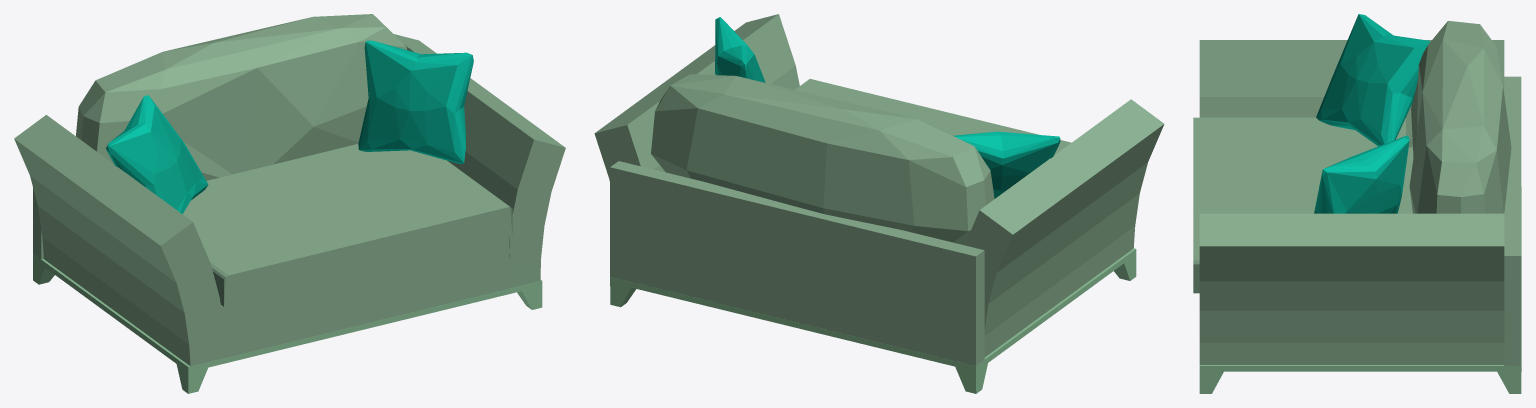
The model's file is Accesories_Sofa_One_Seater.glb.
3 renders of one model, left to right at view 1: azimuth 30°, elevation 25°; view 2: azimuth 150°, elevation 25°; view 3: azimuth 270°, elevation 25°, orthographic. The views are drawn at different scales.
Visible parts, largest first — view 1: Accesories_Sofa_One_Seater; view 2: Accesories_Sofa_One_Seater; view 3: Accesories_Sofa_One_Seater.
Boxes of the visible parts, box(x1,y1,x2,y2) form: Accesories_Sofa_One_Seater: box(14, 14, 565, 393); Accesories_Sofa_One_Seater: box(594, 14, 1164, 393); Accesories_Sofa_One_Seater: box(1193, 14, 1521, 393).
Bounding box in the file's own units: 1.38 × 0.7135 × 0.9341.
1 material, 1 textured.
